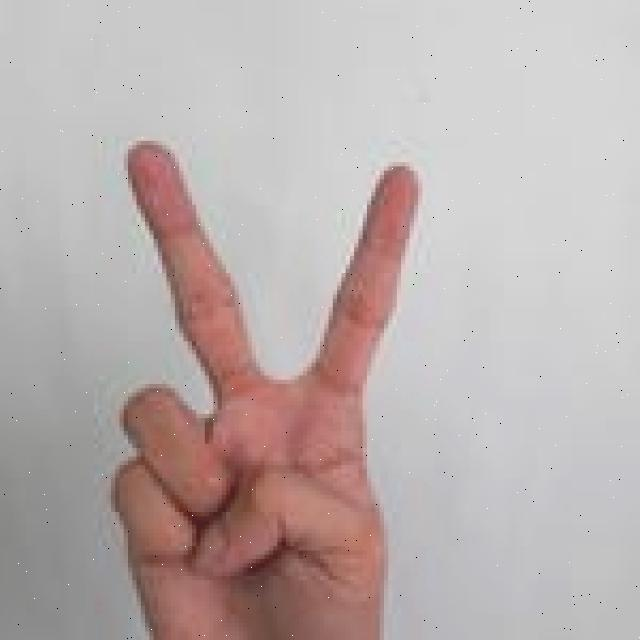V: (99, 134, 428, 640)
